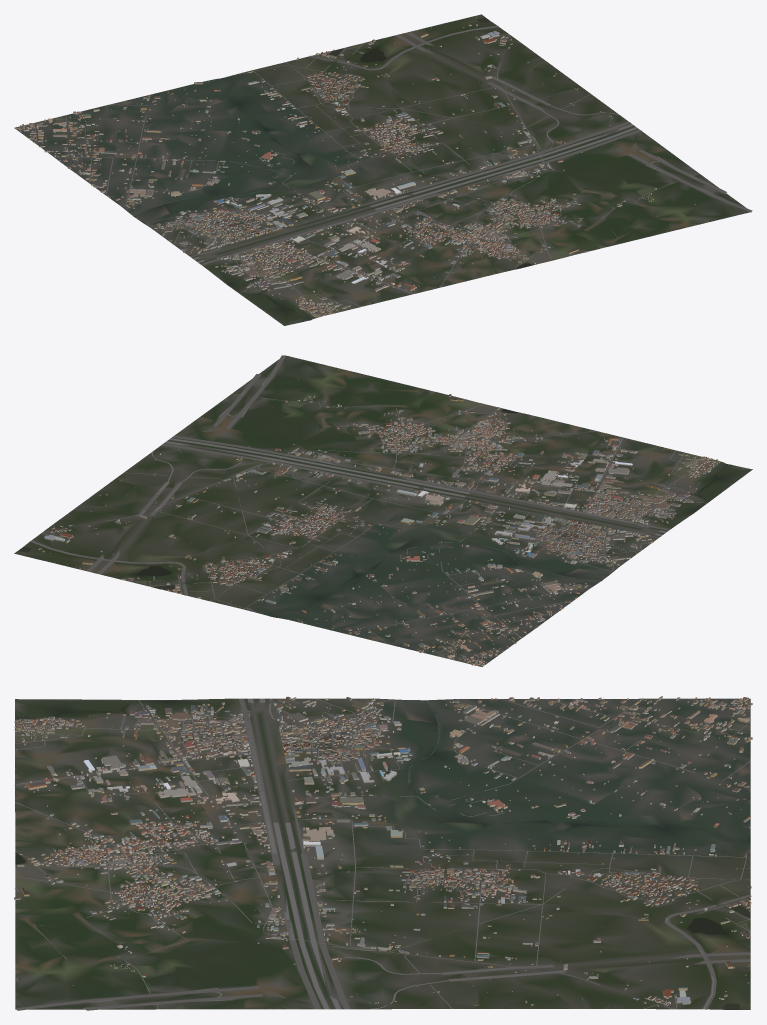
3 views of the same model, one above another, from view 1: azimuth 30°, elevation 25°; view 2: azimuth 150°, elevation 25°; view 3: azimuth 270°, elevation 25° (orthographic). The views are drawn at different scales.
Visible parts, largest first — view 1: ground, buildings, roads, water; view 2: ground, buildings, roads, water; view 3: ground, buildings, roads, water.
Part boxes in pixels (x1=…): ground: x1=14, y1=14, x2=751, y2=325; buildings: x1=15, y1=24, x2=705, y2=317; roads: x1=33, y1=25, x2=752, y2=316; water: x1=134, y1=17, x2=547, y2=320; ground: x1=14, y1=355, x2=752, y2=666; buildings: x1=38, y1=366, x2=719, y2=666; roads: x1=30, y1=355, x2=711, y2=662; water: x1=19, y1=408, x2=726, y2=617; ground: x1=15, y1=698, x2=750, y2=1009; buildings: x1=14, y1=696, x2=752, y2=1006; roads: x1=14, y1=698, x2=751, y2=1010; water: x1=15, y1=700, x2=750, y2=1009.
Size of the model in its own units: 2823 by 26.19 by 2817.
